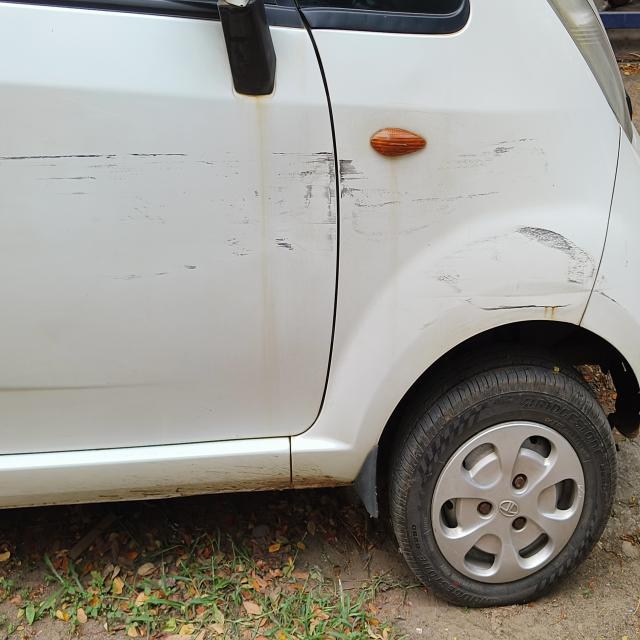scratch: (524, 211, 618, 293), (271, 152, 336, 222), (0, 149, 192, 161), (426, 263, 474, 308), (339, 158, 381, 200), (451, 142, 513, 168), (128, 194, 168, 231), (222, 188, 260, 224), (197, 150, 240, 177), (479, 301, 573, 312), (33, 173, 102, 187), (220, 235, 255, 260), (413, 193, 495, 203), (118, 272, 173, 283), (356, 200, 402, 210), (57, 189, 99, 198), (194, 401, 213, 415), (276, 238, 294, 250), (181, 262, 199, 272), (519, 138, 538, 144)
